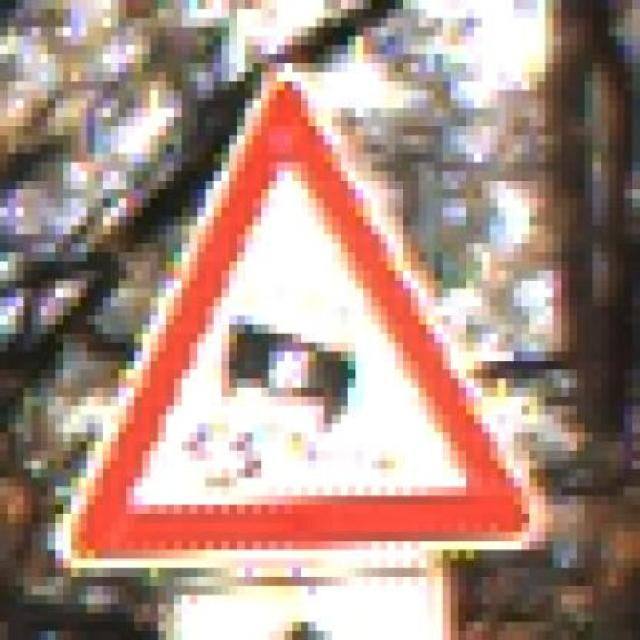Slippery Road Ahead: (63, 54, 569, 586)
